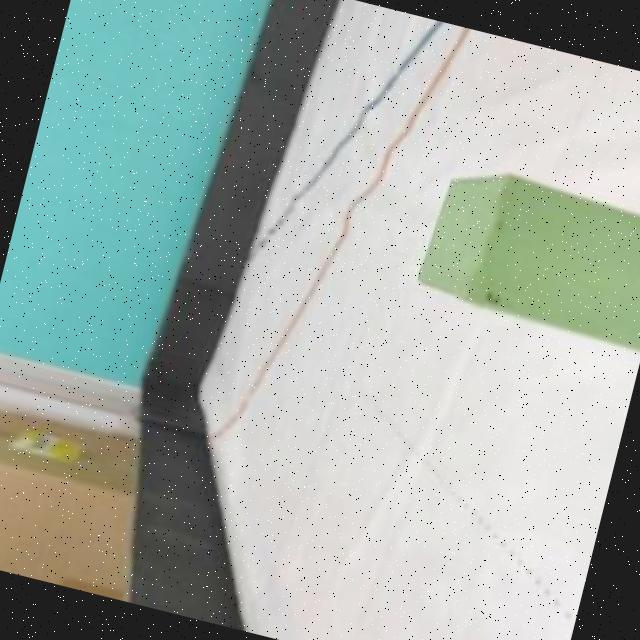greenbox: (411, 152, 640, 351)
